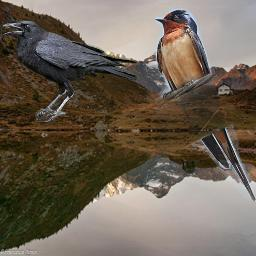Crow: (2, 20, 140, 122)
Swallow: (155, 8, 256, 201)
